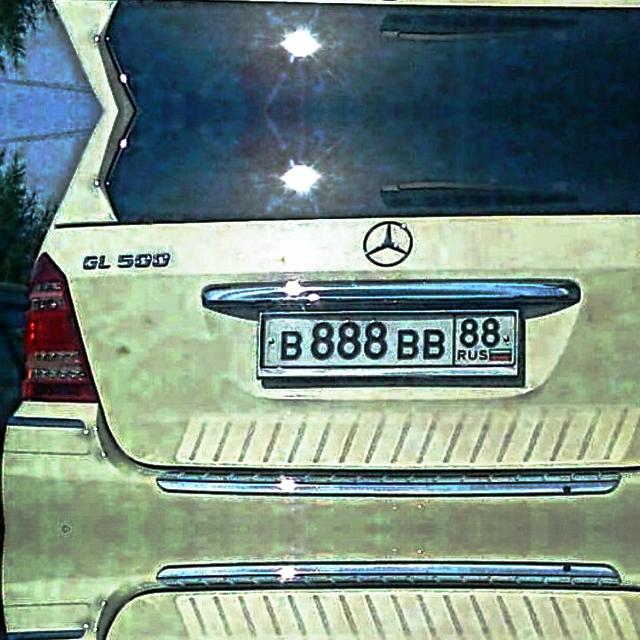citizen: (256, 307, 524, 387)
